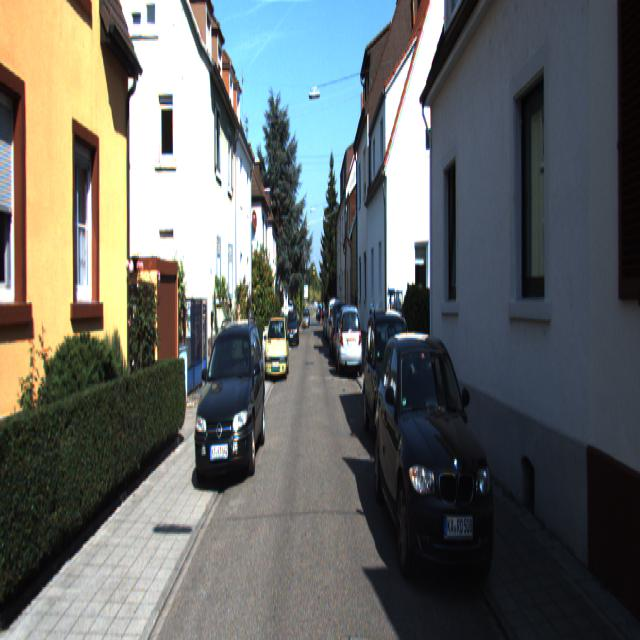Car: (372, 328, 501, 626), (194, 320, 266, 504), (363, 308, 423, 463), (336, 307, 364, 384), (265, 312, 288, 382)
